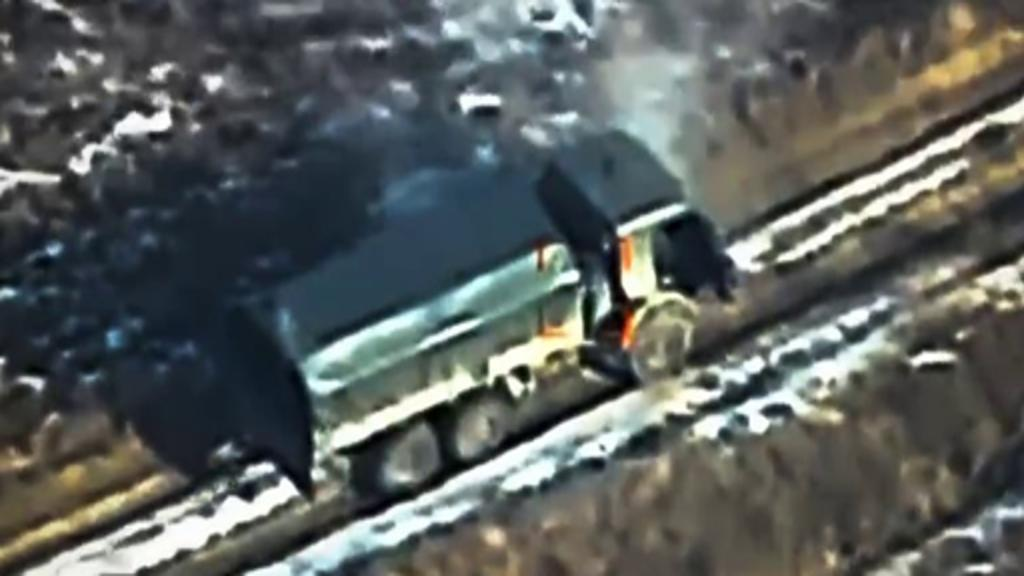TRUCK: (216, 121, 732, 508)
